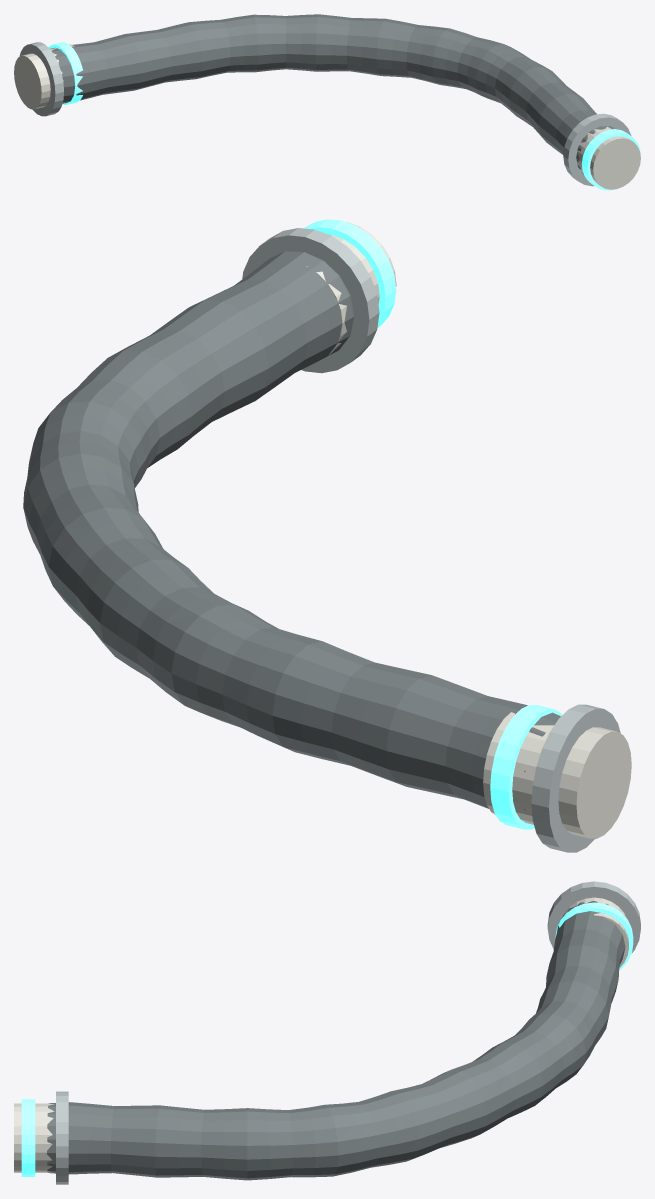
Rendered from s7-i03-hose-bend-90.glb.
The picture shows the model from 3 angles, top to bottom: view 1: azimuth 30°, elevation 25°; view 2: azimuth 150°, elevation 25°; view 3: azimuth 270°, elevation 25°; orthographic projection. The views are drawn at different scales.
Visible parts, largest first — view 1: 000_actual_curved_hose_swept_3d, 004_end_1_sealing_socket, 001_end_0_sealing_socket, 006_end_1_locking_collar, 003_end_0_locking_collar, 005_end_1_cyan_snap_seal, 002_end_0_cyan_snap_seal; view 2: 000_actual_curved_hose_swept_3d, 001_end_0_sealing_socket, 006_end_1_locking_collar, 003_end_0_locking_collar, 002_end_0_cyan_snap_seal, 005_end_1_cyan_snap_seal, 004_end_1_sealing_socket; view 3: 000_actual_curved_hose_swept_3d, 003_end_0_locking_collar, 004_end_1_sealing_socket, 006_end_1_locking_collar, 005_end_1_cyan_snap_seal, 002_end_0_cyan_snap_seal, 001_end_0_sealing_socket.
Part boxes in pixels (<box>): 000_actual_curved_hose_swept_3d: <box>50,14,616,174</box>; 004_end_1_sealing_socket: <box>577,126,640,189</box>; 001_end_0_sealing_socket: <box>14,44,74,109</box>; 006_end_1_locking_collar: <box>563,113,631,186</box>; 003_end_0_locking_collar: <box>19,42,63,116</box>; 005_end_1_cyan_snap_seal: <box>581,129,640,190</box>; 002_end_0_cyan_snap_seal: <box>48,42,82,104</box>; 000_actual_curved_hose_swept_3d: <box>23,251,560,810</box>; 001_end_0_sealing_socket: <box>483,712,631,838</box>; 006_end_1_locking_collar: <box>242,228,379,373</box>; 003_end_0_locking_collar: <box>531,704,620,852</box>; 002_end_0_cyan_snap_seal: <box>490,705,562,829</box>; 005_end_1_cyan_snap_seal: <box>304,219,396,327</box>; 004_end_1_sealing_socket: <box>306,222,396,355</box>; 000_actual_curved_hose_swept_3d: <box>47,901,625,1180</box>; 003_end_0_locking_collar: <box>547,881,640,952</box>; 004_end_1_sealing_socket: <box>14,1103,54,1172</box>; 006_end_1_locking_collar: <box>56,1091,68,1184</box>; 005_end_1_cyan_snap_seal: <box>21,1099,35,1176</box>; 002_end_0_cyan_snap_seal: <box>555,902,633,969</box>; 001_end_0_sealing_socket: <box>562,897,628,967</box>.
Size of the model in its own units: 0.5729 by 0.0935 by 0.6287.
